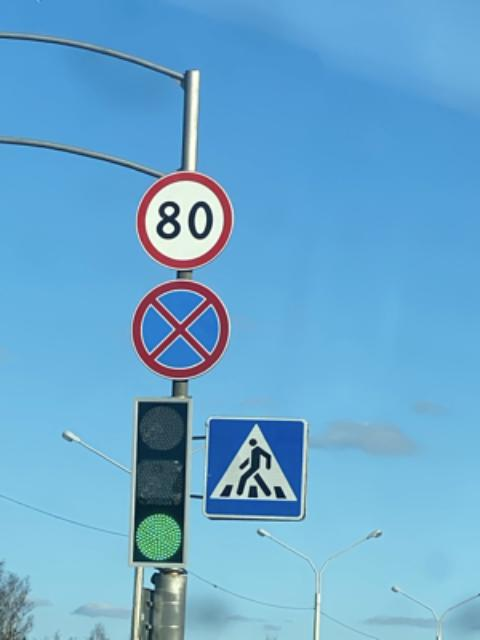crosswalk-sign: (201, 414, 309, 522)
